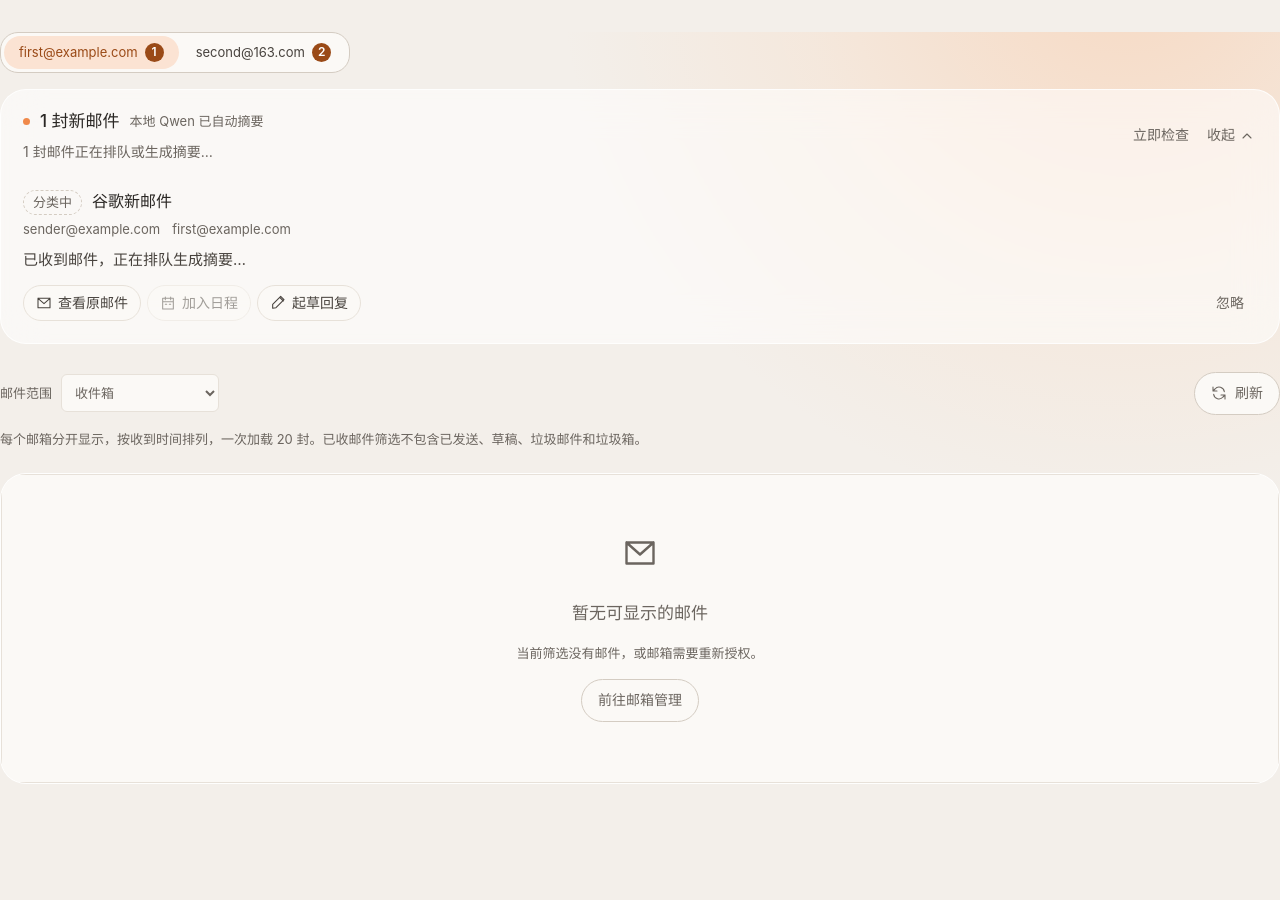
labels each mailbox tab with its new mail and shows notices for the open mailbox
This screenshot has width=1280, height=900.
Check: the heading "1 封新邮件" is shown, box [40,108,120,135]
Check: the heading "谷歌新邮件" is shown, box [92,189,172,215]
Click the tab with aria-label "second@163.com，2 封新邮件" at [264, 52], box [181,36,346,69]
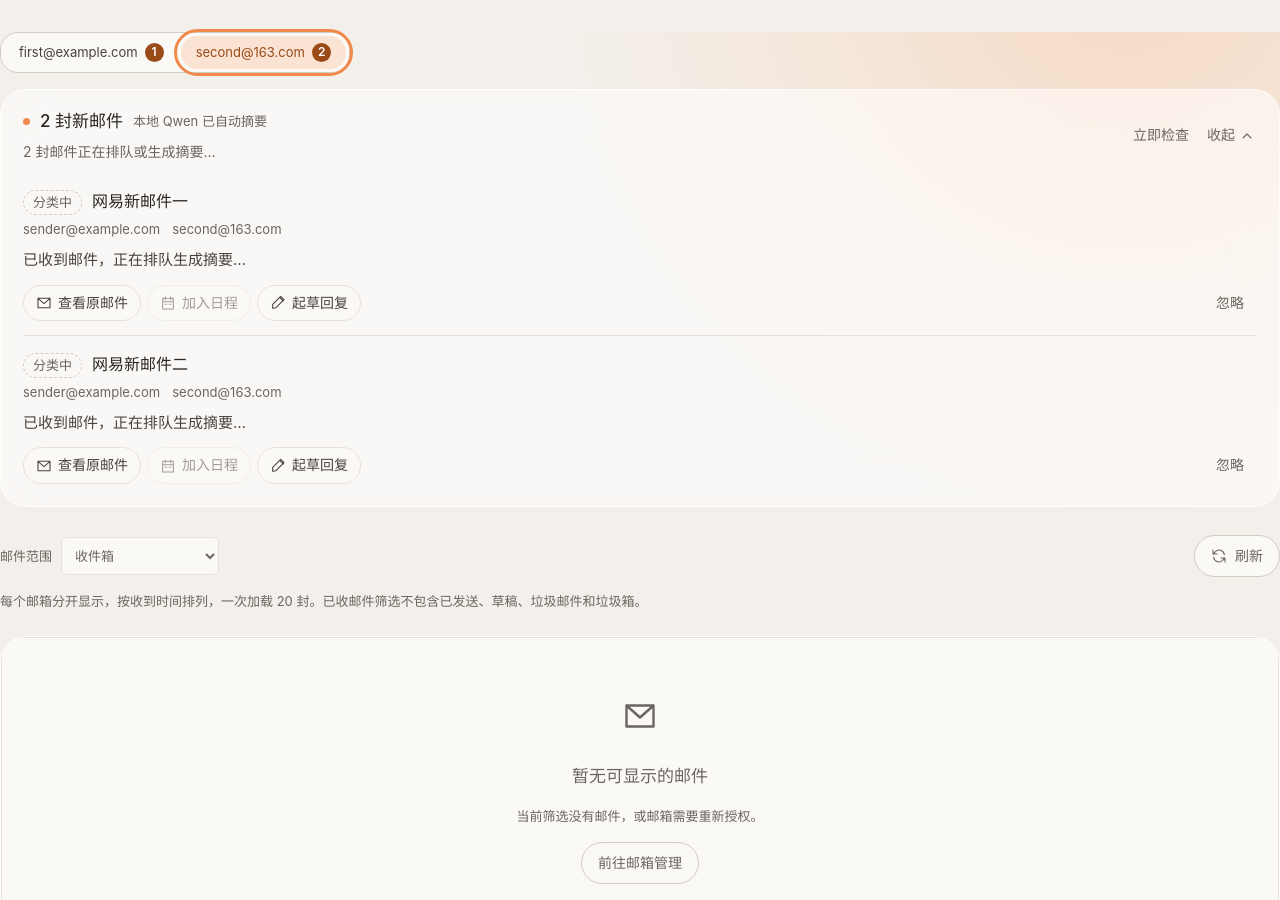
Check: the heading "2 封新邮件" is shown, box [40,108,123,135]
Check: the heading "网易新邮件二" is shown, box [92,352,188,378]
Check: the heading "谷歌新邮件" is gone
